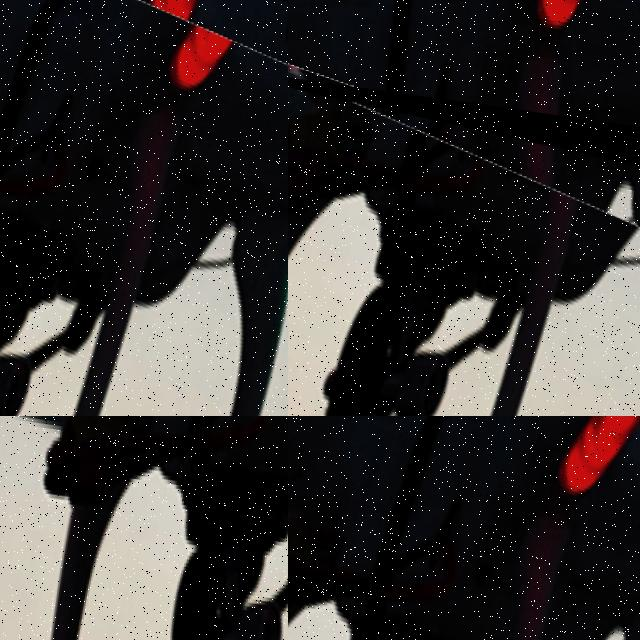drone: (288, 60, 640, 416), (0, 0, 288, 416), (288, 416, 640, 640)
